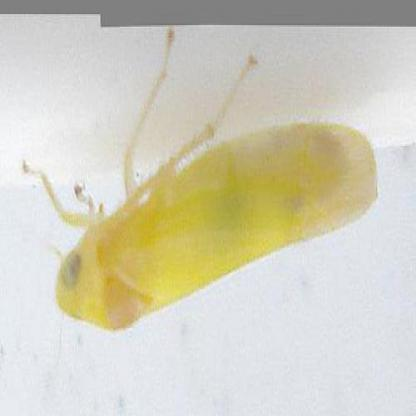green-leafhopper: (56, 106, 377, 328)
